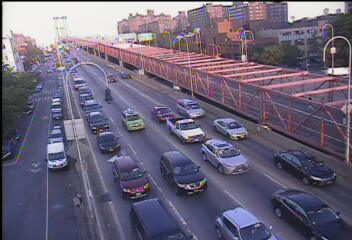neg: (49, 10, 72, 40)
